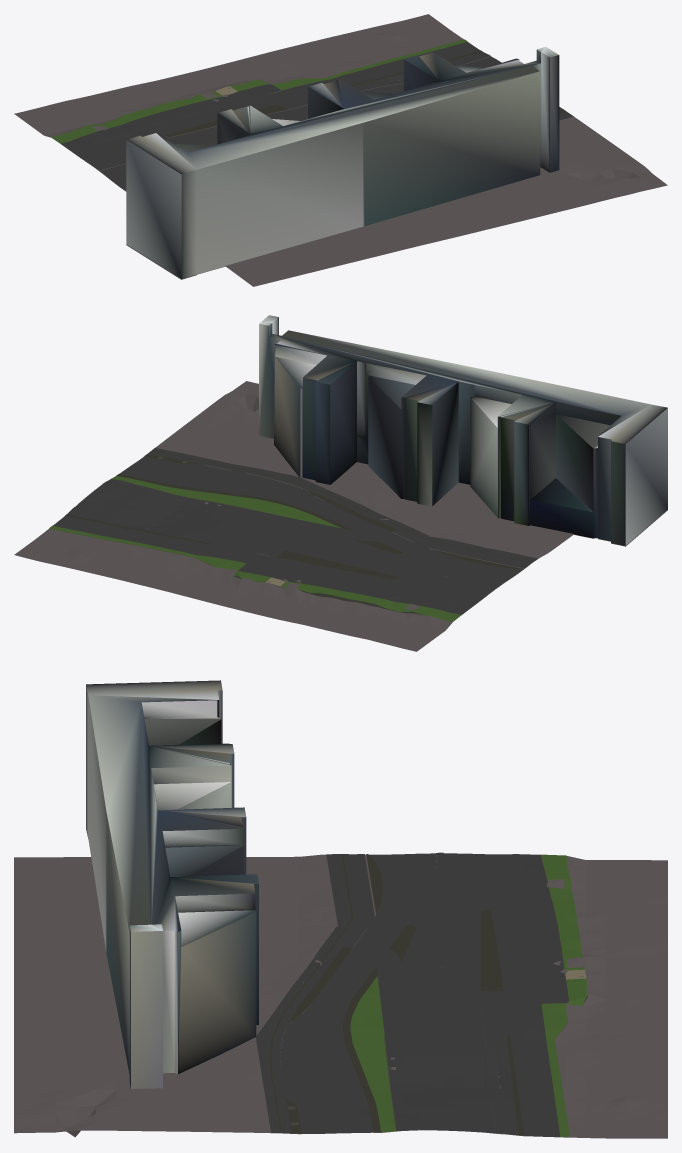
3 renders of one model, top to bottom at view 1: azimuth 30°, elevation 25°; view 2: azimuth 150°, elevation 25°; view 3: azimuth 270°, elevation 25°, orthographic. The views are drawn at different scales.
Visible parts, largest first — view 1: c_m16_p04; view 2: c_m16_p04; view 3: c_m16_p04.
Boxes of the visible parts, bbox=[...] form: c_m16_p04: bbox=[14, 14, 667, 286]; c_m16_p04: bbox=[14, 315, 667, 651]; c_m16_p04: bbox=[14, 680, 667, 1138].
Bounding box in the file's own units: 144 × 38.64 × 128.
